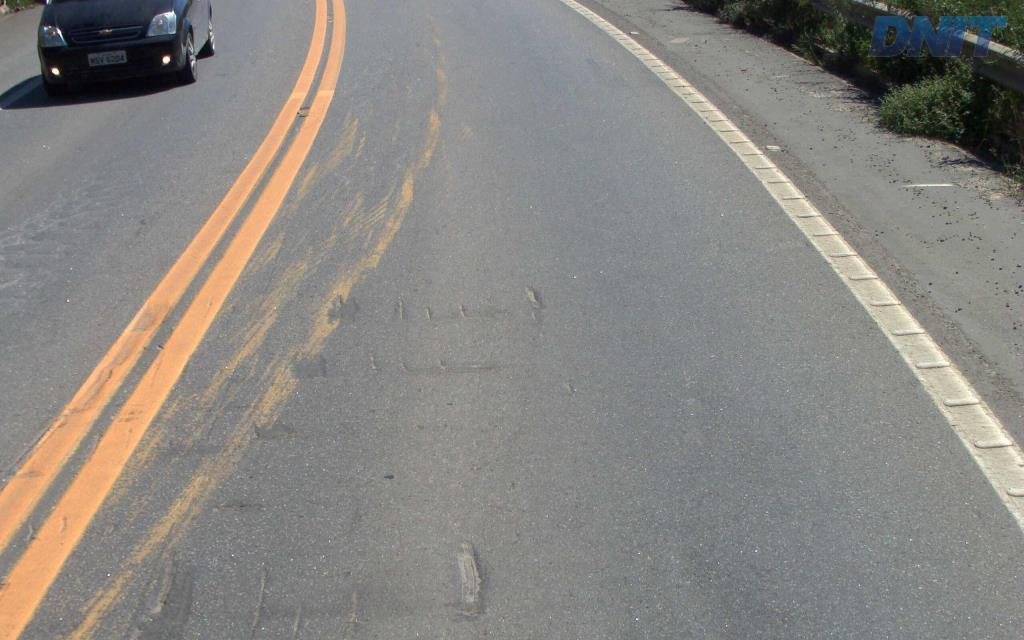pothole: (443, 536, 487, 615), (522, 279, 542, 316)
